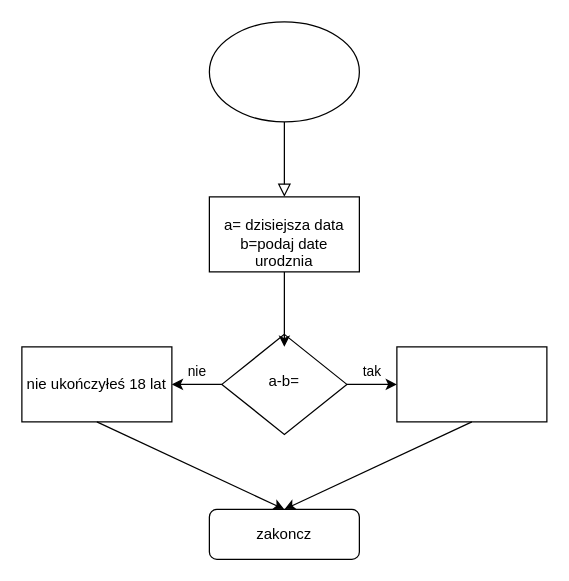
The diagram is 569 pixels wide and 581 high, and some of its shapes have lost their labels. Each missing label, with the centre of its shape:
"Start" goes at pixel 283 71.
"ukończyłeś 18 lat" goes at pixel 471 384.
